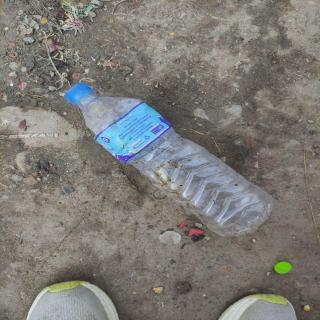Plastic-bottle: (63, 82, 280, 239)
